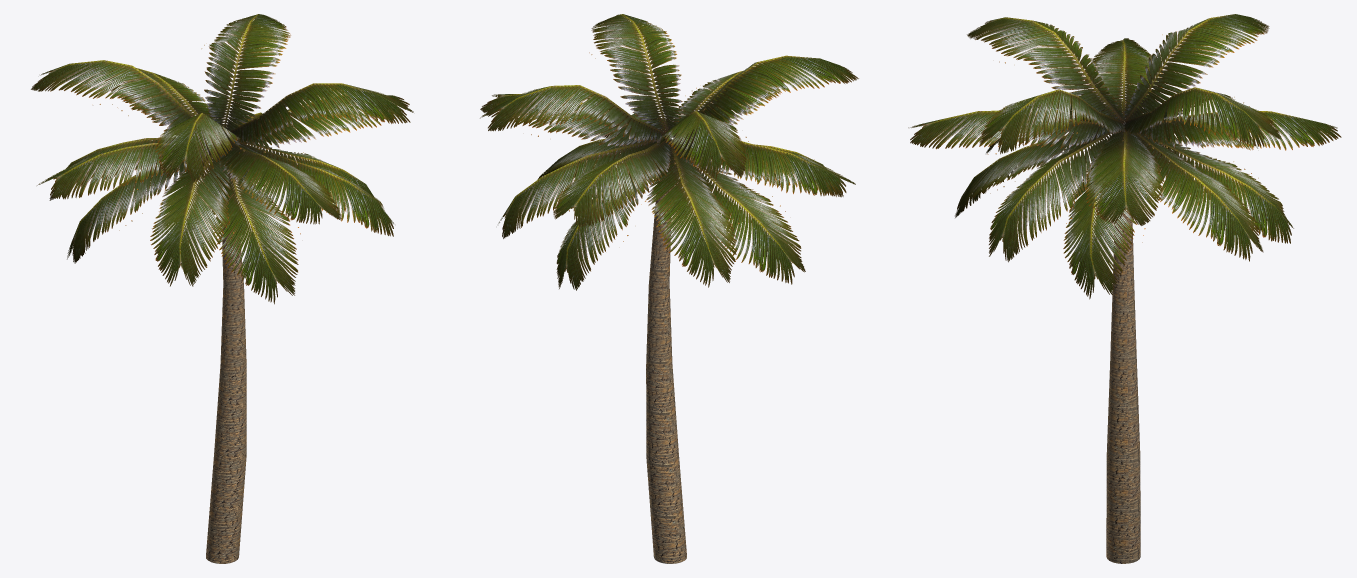
File: Palmboom1.fbx
The picture shows the model from 3 angles, left to right: view 1: azimuth 30°, elevation 25°; view 2: azimuth 150°, elevation 25°; view 3: azimuth 270°, elevation 25°; orthographic projection. The views are drawn at different scales.
Parts seen in each view (by area): view 1: pCylinder1, pPlane9, pPlane6, pPlane14, pPlane4, pPlane7, pPlane5, pPlane3, pPlane8, pPlane13, pPlane10, pPlane1 (+3 smaller); view 2: pCylinder1, pPlane12, pPlane5, pPlane13, pPlane2, pPlane6, pPlane8, pPlane3, pPlane11, pPlane7, pPlane16, pPlane1 (+3 smaller); view 3: pCylinder1, pPlane7, pPlane8, pPlane10, pPlane11, pPlane1, pPlane15, pPlane5, pPlane6, pPlane4, pPlane2, pPlane16 (+3 smaller).
Part boxes in pixels (x1,y1,x2,y2): pCylinder1: [206, 170, 246, 563]; pPlane9: [150, 140, 237, 286]; pPlane6: [201, 14, 290, 130]; pPlane14: [208, 150, 300, 304]; pPlane4: [219, 140, 341, 224]; pPlane7: [31, 60, 195, 129]; pPlane5: [228, 83, 413, 143]; pPlane3: [37, 137, 219, 199]; pPlane8: [155, 113, 241, 182]; pPlane13: [67, 140, 211, 263]; pPlane10: [230, 142, 393, 236]; pPlane1: [237, 94, 409, 148]; pCylinder1: [646, 142, 686, 563]; pPlane12: [646, 139, 740, 287]; pPlane5: [589, 14, 682, 132]; pPlane13: [671, 139, 805, 284]; pPlane2: [553, 138, 672, 227]; pPlane6: [480, 85, 665, 142]; pPlane8: [674, 55, 858, 136]; pPlane3: [672, 136, 855, 195]; pPlane11: [498, 139, 659, 238]; pPlane7: [656, 111, 748, 179]; pPlane16: [556, 145, 659, 290]; pPlane1: [480, 93, 664, 146]; pCylinder1: [1106, 211, 1140, 563]; pPlane7: [1123, 14, 1269, 124]; pPlane8: [967, 17, 1125, 123]; pPlane10: [989, 131, 1113, 262]; pPlane11: [1126, 132, 1263, 261]; pPlane1: [1084, 124, 1171, 225]; pPlane15: [1063, 141, 1145, 299]; pPlane5: [979, 89, 1125, 154]; pPlane6: [1124, 87, 1281, 147]; pPlane4: [908, 110, 1109, 154]; pPlane2: [1137, 111, 1341, 150]; pPlane16: [1137, 132, 1293, 243].
Size of the model in its own units: 11.47 by 14.5 by 11.47.
Materials: 2 (2 with a texture image).
